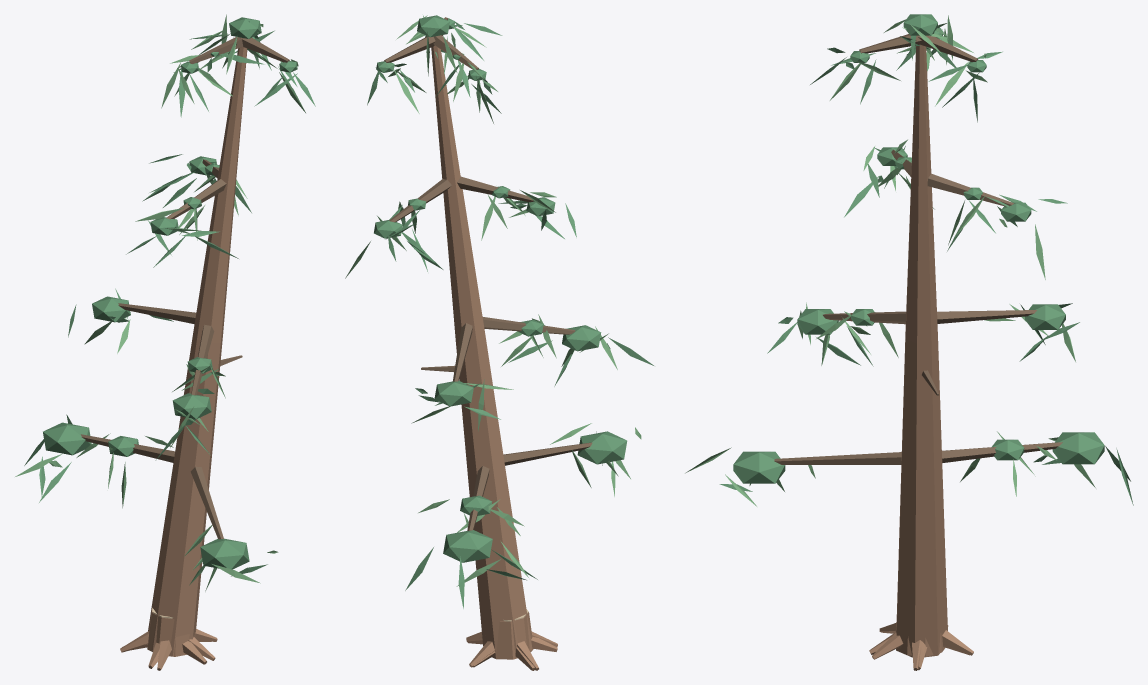
The model's file is plant-pine-b_lod1.glb.
3 views of the same model, side by side, from view 1: azimuth 30°, elevation 25°; view 2: azimuth 150°, elevation 25°; view 3: azimuth 270°, elevation 25° (orthographic). The views are drawn at different scales.
Parts seen in each view (by area): view 1: plant-pine-b_standing_trunkPine, plant-pine-b_standing_needleA, plant-pine-b_standing_needleB, plant-pine-b_standing_barkDark, plant-pine-b_stump_trunkPine; view 2: plant-pine-b_standing_trunkPine, plant-pine-b_standing_needleA, plant-pine-b_standing_needleB, plant-pine-b_standing_barkDark, plant-pine-b_stump_trunkPine; view 3: plant-pine-b_standing_trunkPine, plant-pine-b_standing_needleA, plant-pine-b_standing_barkDark, plant-pine-b_standing_needleB.
Part boxes in pixels (bbox=[...]): plant-pine-b_standing_trunkPine: bbox=[120, 46, 247, 670]; plant-pine-b_standing_needleA: bbox=[24, 17, 315, 576]; plant-pine-b_standing_needleB: bbox=[15, 14, 305, 591]; plant-pine-b_standing_barkDark: bbox=[81, 37, 289, 539]; plant-pine-b_stump_trunkPine: bbox=[122, 609, 211, 668]; plant-pine-b_standing_trunkPine: bbox=[431, 45, 557, 670]; plant-pine-b_standing_needleA: bbox=[367, 15, 653, 608]; plant-pine-b_standing_needleB: bbox=[345, 15, 641, 586]; plant-pine-b_standing_barkDark: bbox=[384, 17, 592, 530]; plant-pine-b_stump_trunkPine: bbox=[466, 612, 557, 670]; plant-pine-b_standing_trunkPine: bbox=[872, 44, 973, 670]; plant-pine-b_standing_needleA: bbox=[719, 14, 1133, 505]; plant-pine-b_standing_barkDark: bbox=[774, 34, 1062, 464]; plant-pine-b_standing_needleB: bbox=[685, 15, 1095, 506].
Size of the model in its own units: 2.25 by 6.49 by 3.92.
